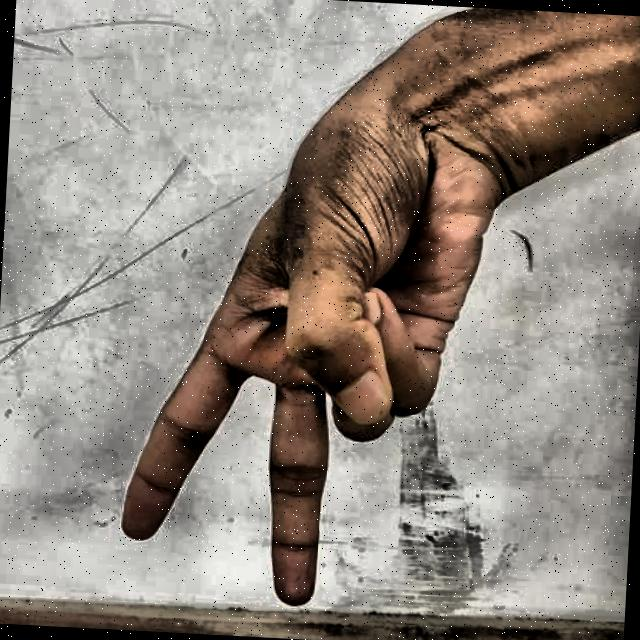Pa: (83, 61, 523, 632)
